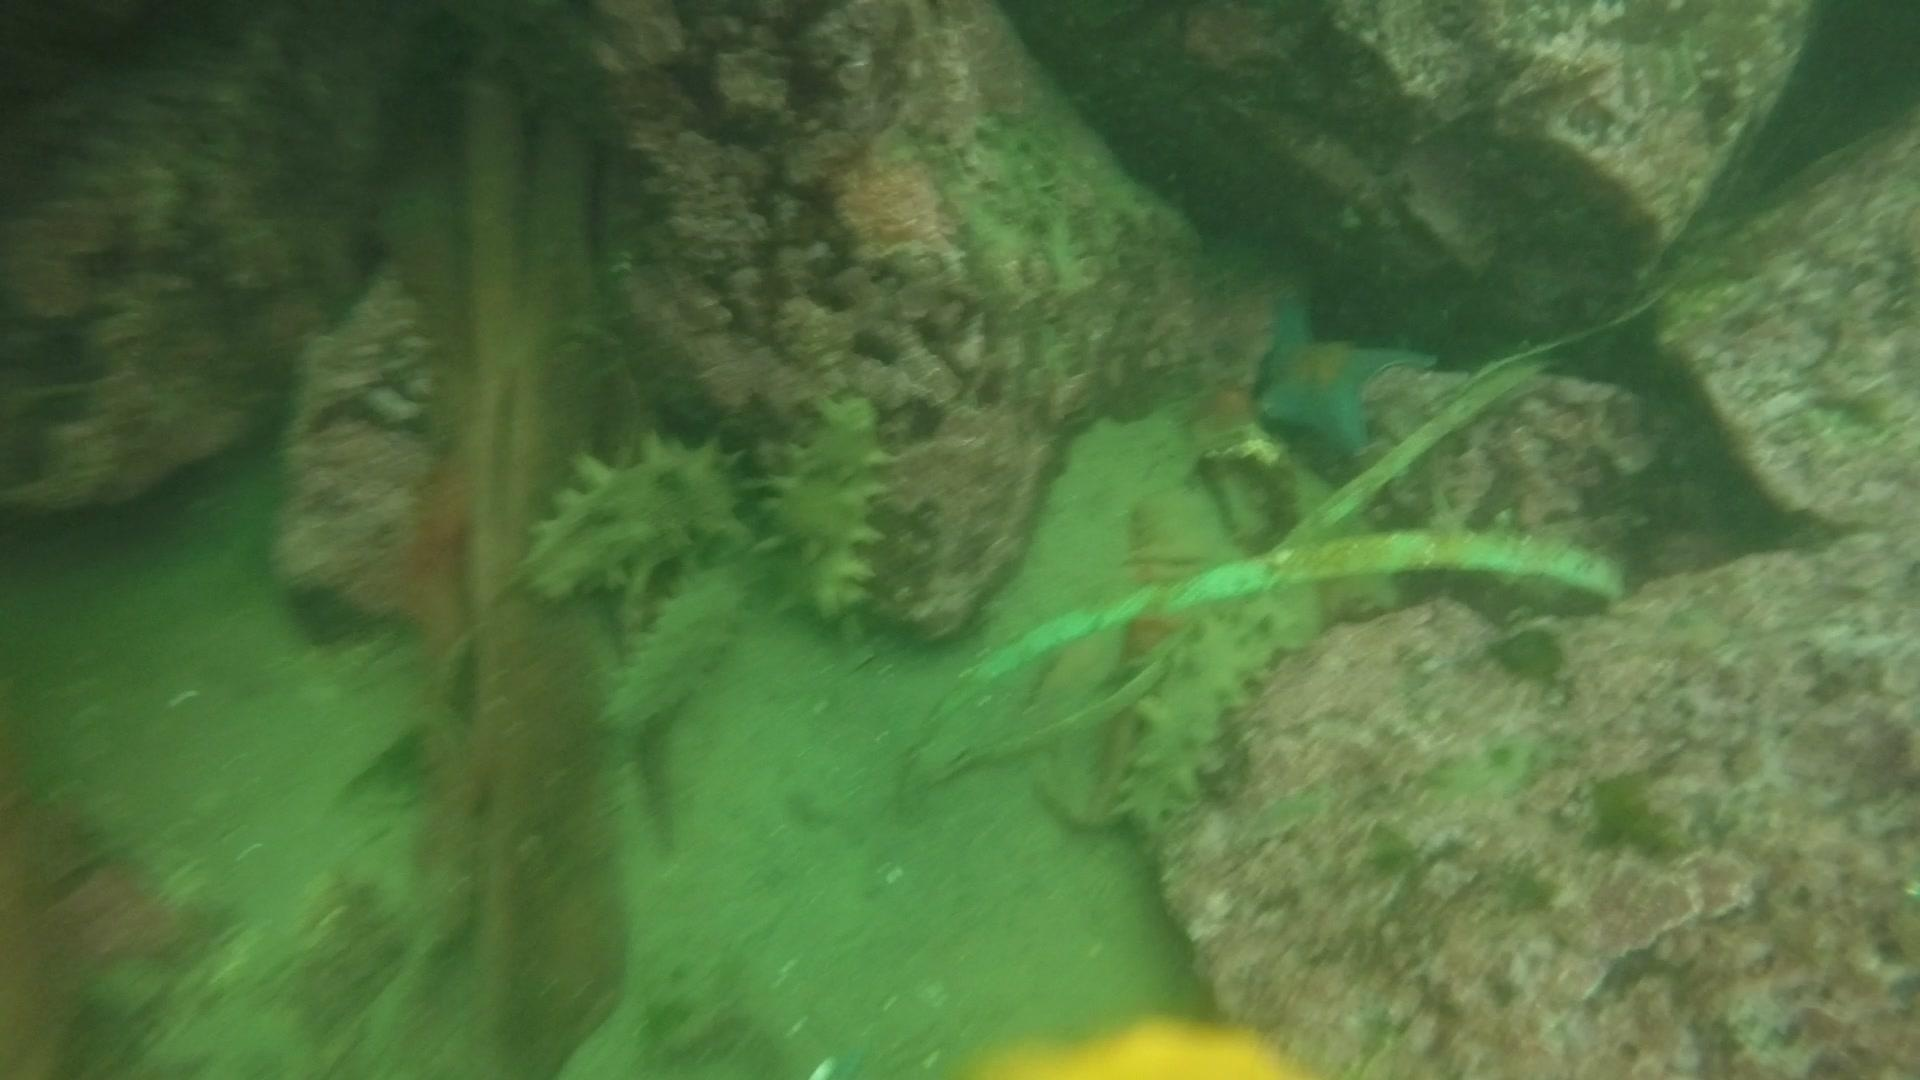holothurian: (1106, 582, 1327, 837), (516, 427, 764, 609), (756, 388, 899, 634), (599, 558, 753, 744)
starfish: (1244, 291, 1443, 467)
